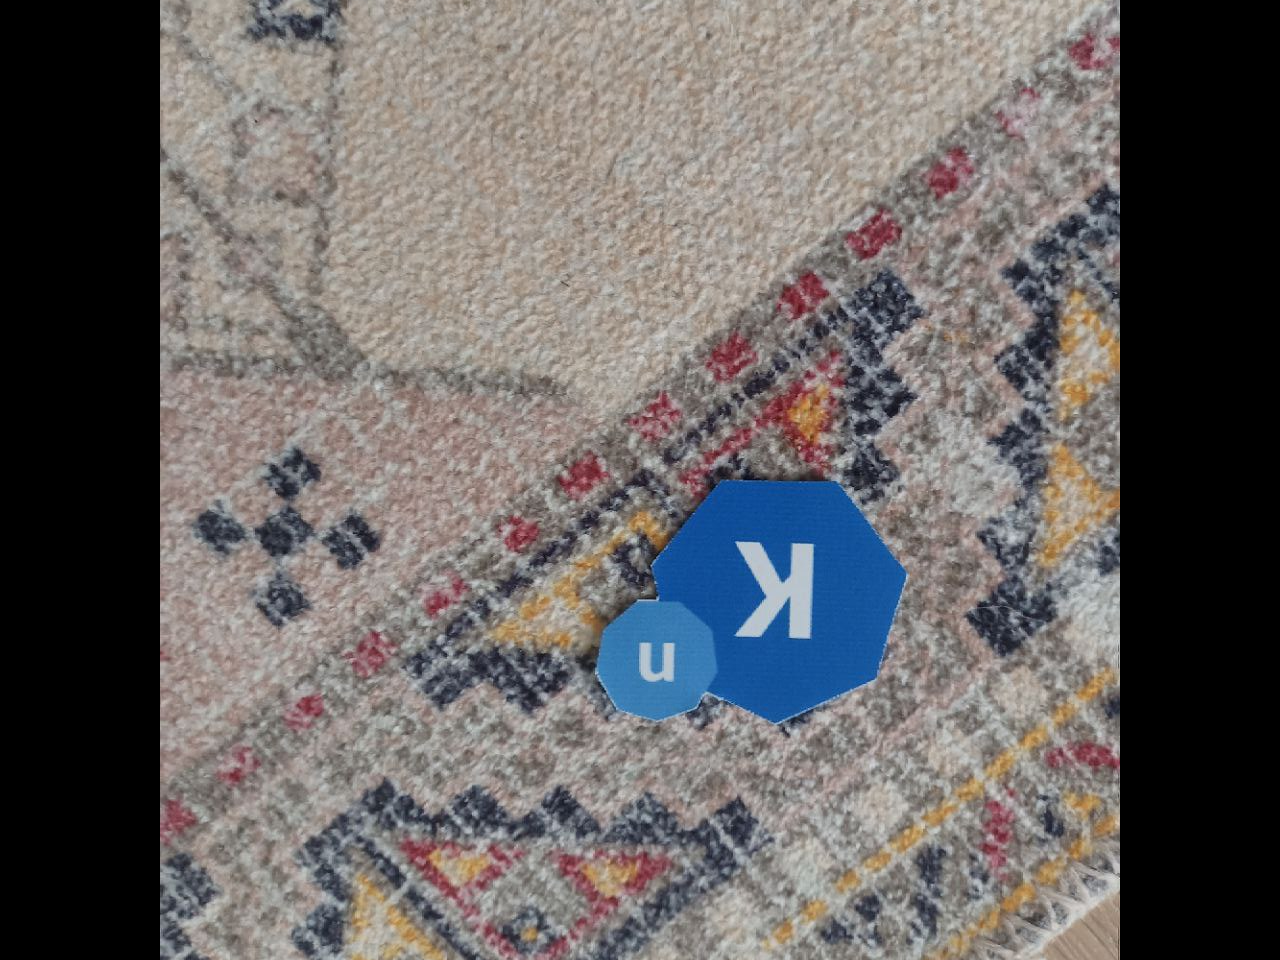knative: (593, 474, 910, 725)
